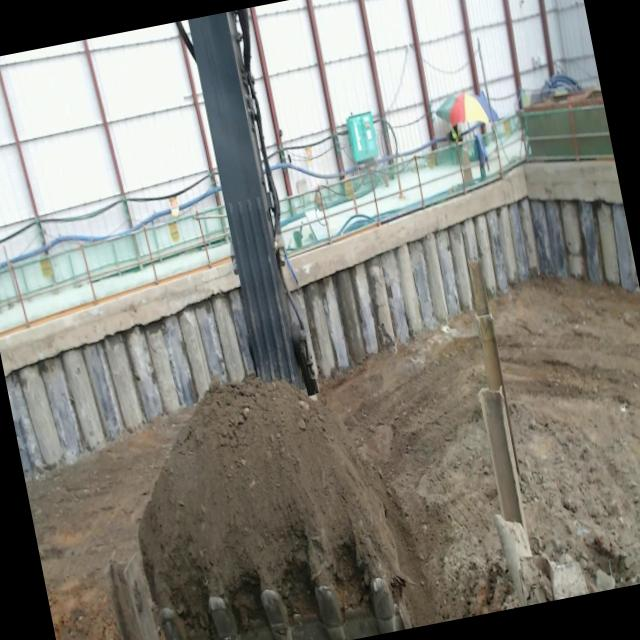red-sand: (139, 378, 403, 639), (323, 316, 517, 628), (491, 279, 640, 593), (26, 408, 194, 640)
